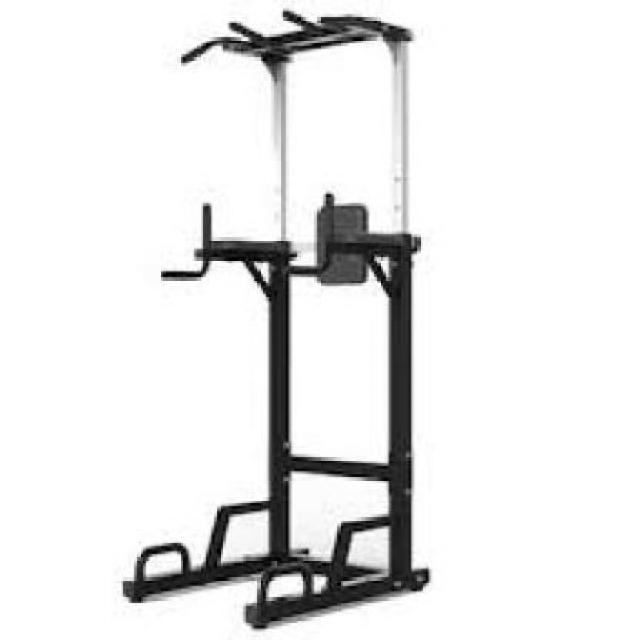chinning dipping: (123, 6, 428, 631)
